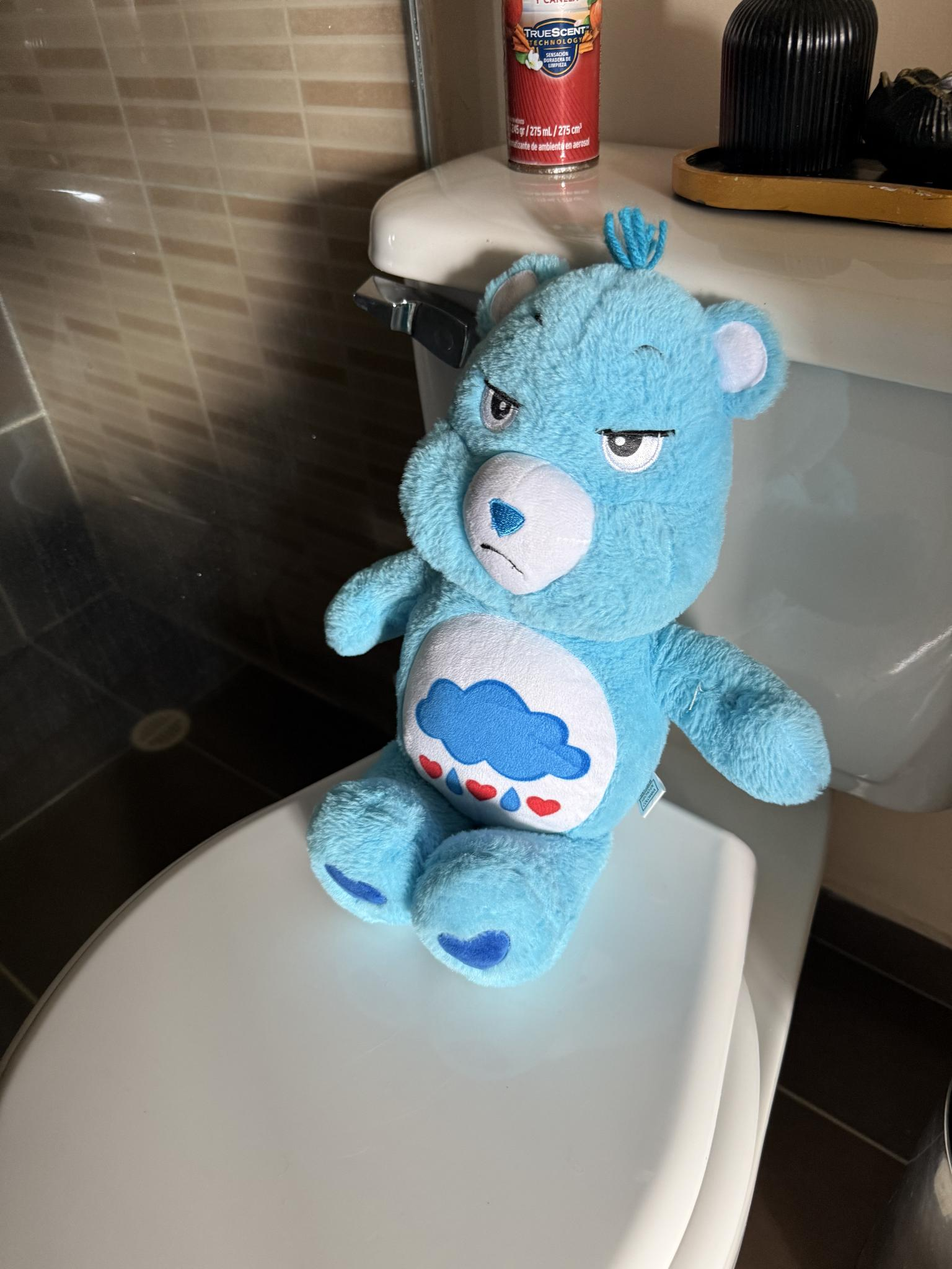peluche_Juan Jose: (305, 208, 832, 989)
